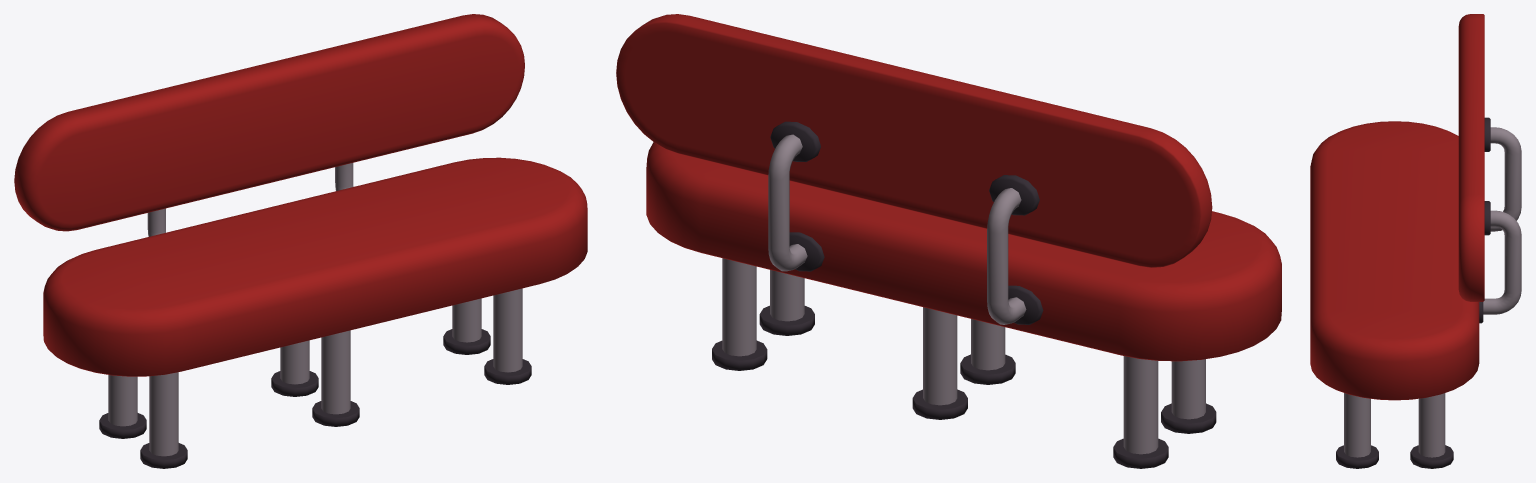
File: GB_055_bench.glb
3 renders of one model, left to right at view 1: azimuth 30°, elevation 25°; view 2: azimuth 150°, elevation 25°; view 3: azimuth 270°, elevation 25°, orthographic. The views are drawn at different scales.
Visible parts, largest first — view 1: Stool_seat.001, Stool_seat.002, Stool_legs.001, Stool_legs.002, Seat_back.002; view 2: Stool_seat.002, Stool_seat.001, Stool_legs.001, Stool_legs.002, Seat_back.002, ConnectionPieces.002; view 3: Stool_seat.001, Stool_seat.002, Stool_legs.001, Seat_back.002, ConnectionPieces.002.
Part boxes in pixels (<box>): Stool_seat.001: <box>43,157,587,376</box>; Stool_seat.002: <box>14,14,524,231</box>; Stool_legs.001: <box>99,288,531,468</box>; Stool_legs.002: <box>271,330,359,426</box>; Seat_back.002: <box>147,163,353,236</box>; Stool_seat.002: <box>616,14,1212,267</box>; Stool_seat.001: <box>646,142,1281,361</box>; Stool_legs.001: <box>712,258,1216,468</box>; Stool_legs.002: <box>912,307,1015,419</box>; Seat_back.002: <box>768,134,1026,324</box>; ConnectionPieces.002: <box>770,121,1043,324</box>; Stool_seat.001: <box>1310,121,1479,400</box>; Stool_seat.002: <box>1458,14,1484,301</box>; Stool_legs.001: <box>1336,393,1453,468</box>; Seat_back.002: <box>1483,127,1521,314</box>; ConnectionPieces.002: <box>1479,117,1490,323</box>.
Bounding box in the file's own units: 2.22 × 1.24 × 0.8583.
